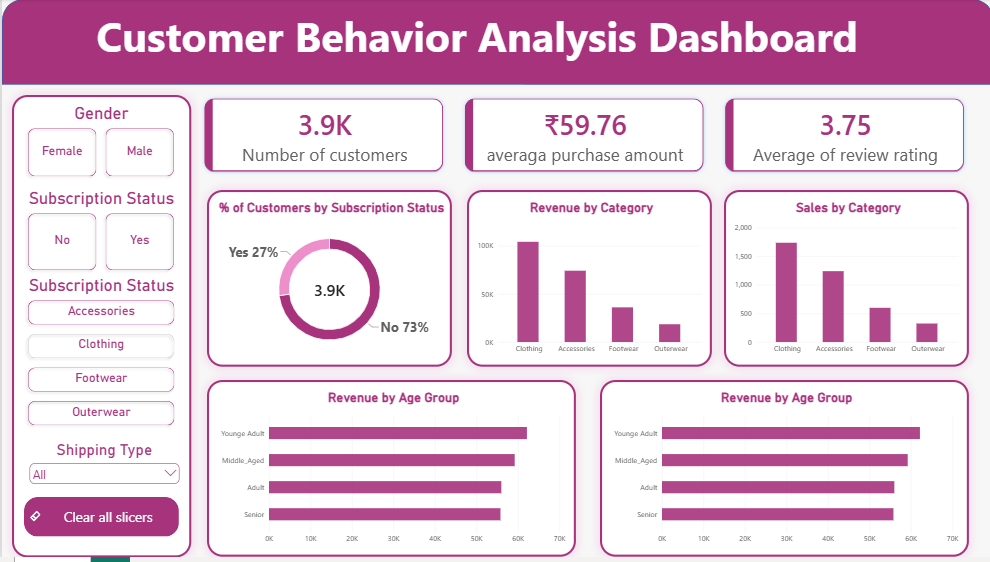

What the dashboard file says about the page in this screenshot:
{"tool":"powerbi","page":{"name":"Page 1","canvas":[1920,1080],"ordinal":0},"visuals":[{"type":"cardVisual","fields":{"Data":["public customers.Number of customers","public customers.averaga purchase amount","public customers.Average of review rating"]},"box":[365.7,165.8,1522.2,193.5],"z":0},{"type":"shape","box":[0,0,1919.8,165.8],"z":1000},{"type":"textbox","box":[48.9,17,1743.3,125.4],"z":2000},{"type":"donutChart","title":"% of Customers by Subscription Status","fields":{"Category":["public customers.subscription_status"],"Y":["public customers.Number of customers"]},"box":[397.6,369.9,474.1,342.3],"z":3000},{"type":"clusteredColumnChart","title":"Revenue by Category","fields":{"Category":["public customers.category"],"Y":["Sum(public customers.purchase_amount)"]},"box":[899.3,369.9,474.1,342.3],"z":4000},{"type":"clusteredColumnChart","title":"Sales by Category","fields":{"Category":["public customers.category"],"Y":["Count(public customers.customer_id)"]},"box":[1396.8,369.9,474.1,342.3],"z":5000},{"type":"clusteredBarChart","title":"Revenue by Age Group","fields":{"Category":["public customers.age_group"],"Y":["Sum(public customers.purchase_amount)"]},"box":[397.6,737.7,714.3,342.3],"z":6000},{"type":"clusteredBarChart","title":"Revenue by Age Group","fields":{"Category":["public customers.age_group"],"Y":["Sum(public customers.purchase_amount)"]},"box":[1156.5,737.7,714.3,342.3],"z":7000},{"type":"shape","box":[19.1,185,346.5,895],"z":8000},{"type":"advancedSlicerVisual","title":"Gender","fields":{"Values":["public customers.gender"]},"box":[42.5,202,299.8,150.9],"z":9000},{"type":"advancedSlicerVisual","title":"Subscription Status","fields":{"Values":["public customers.subscription_status"]},"box":[42.5,365.7,299.8,150.9],"z":10000},{"type":"advancedSlicerVisual","title":"Subscription Status","fields":{"Values":["public customers.category"]},"box":[42.5,533.6,299.8,299.8],"z":11000},{"type":"slicer","title":"Shipping Type","fields":{"Values":["public customers.shipping_type"]},"box":[48.9,854.6,299.8,108.4],"z":12000},{"type":"actionButton","box":[42.5,963.1,299.8,76.5],"z":13000}]}

Visuals, with their boxes in screenshot pixels (x1, y1, x2, y2), scaled from the page's 1920x1080 canvas onto the 990x562 screenshot:
cardVisual - public customers.Number of customers x public customers.averaga purchase amount: 189:86:973:187
shape: 0:0:989:86
textbox: 25:9:924:74
"% of Customers by Subscription Status" donutChart: 205:192:449:371
"Revenue by Category" clusteredColumnChart: 464:192:708:371
"Sales by Category" clusteredColumnChart: 720:192:965:371
"Revenue by Age Group" clusteredBarChart: 205:384:573:561
"Revenue by Age Group" clusteredBarChart: 596:384:965:561
shape: 10:96:189:561
"Gender" advancedSlicerVisual: 22:105:176:184
"Subscription Status" advancedSlicerVisual: 22:190:176:269
"Subscription Status" advancedSlicerVisual: 22:278:176:434
"Shipping Type" slicer: 25:445:180:501
actionButton: 22:501:176:541
